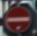No entry: (6, 5, 32, 31)
